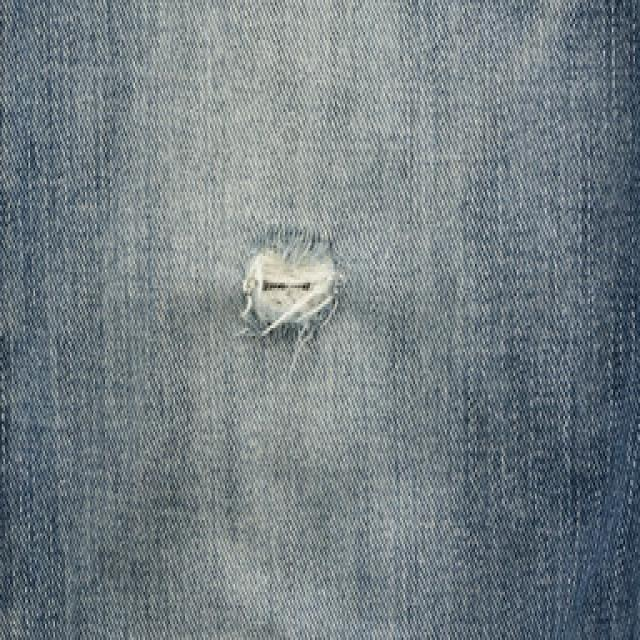Hole: (242, 251, 341, 340)
